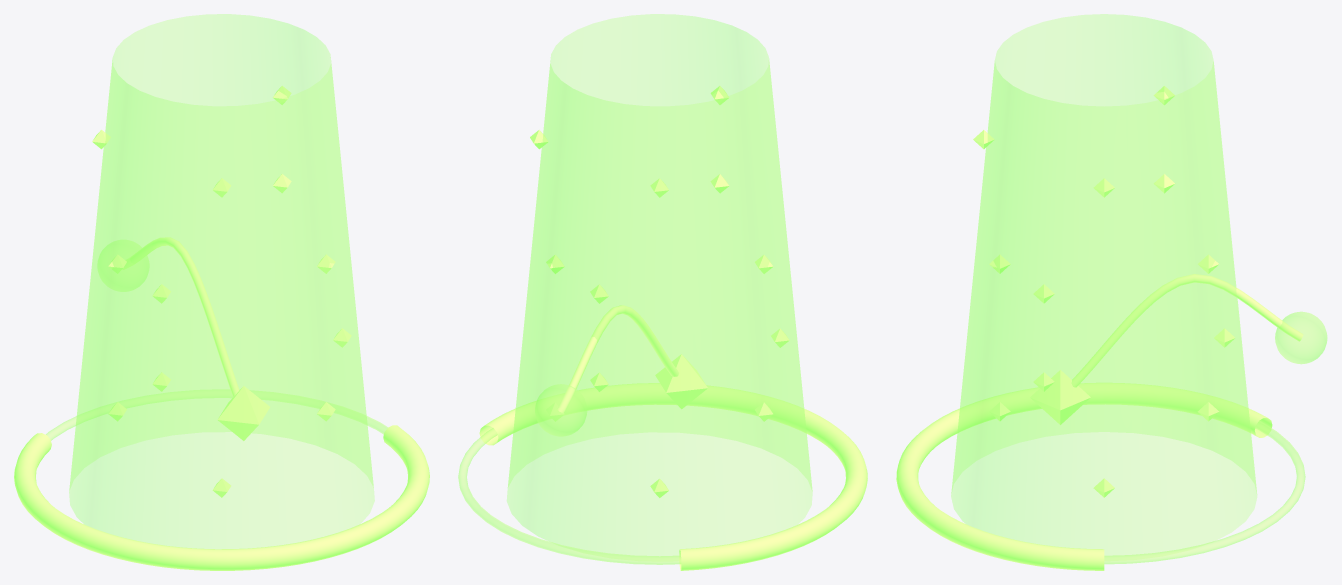
Rendered from vfx_revive_beam.glb.
3 renders of one model, left to right at view 1: azimuth 30°, elevation 25°; view 2: azimuth 150°, elevation 25°; view 3: azimuth 270°, elevation 25°, orthographic.
Parts seen in each view (by area): view 1: revive_column, revive_progress, revive_track, revive_tether, revive_hand_glow, revive_heart; view 2: revive_column, revive_progress, revive_track, revive_hand_glow, revive_tether, revive_heart; view 3: revive_column, revive_progress, revive_track, revive_tether, revive_hand_glow, revive_heart.
Boxes of the visible parts, box(x1,y1,x2,y2) form: revive_column: box(69, 14, 374, 548); revive_progress: box(14, 425, 429, 570); revive_track: box(46, 389, 387, 440); revive_tether: box(123, 237, 239, 397); revive_hand_glow: box(97, 240, 149, 291); revive_heart: box(217, 386, 269, 440); revive_column: box(507, 14, 812, 556); revive_progress: box(479, 383, 867, 570); revive_track: box(458, 428, 681, 564); revive_hand_glow: box(535, 384, 587, 436); revive_tether: box(557, 305, 678, 412); revive_heart: box(655, 354, 707, 408); revive_column: box(951, 14, 1257, 555); revive_progress: box(896, 383, 1272, 570); revive_track: box(1104, 421, 1305, 564); revive_tether: box(1071, 274, 1303, 387); revive_hand_glow: box(1275, 311, 1327, 364); revive_heart: box(1030, 370, 1090, 424).
Size of the model in its own units: 1.9 by 2.2 by 1.97.
